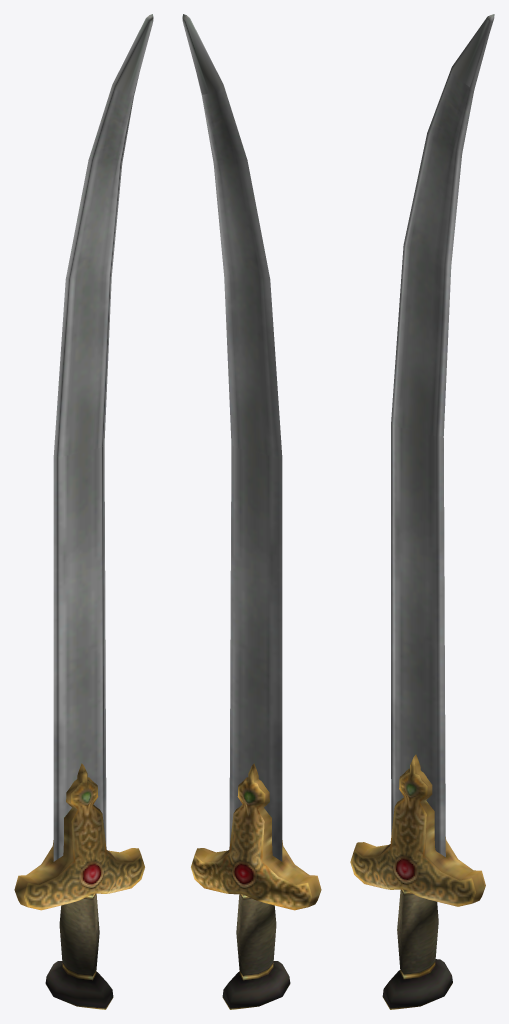
The model's file is chand.ico.obj.
3 renders of one model, left to right at view 1: azimuth 30°, elevation 25°; view 2: azimuth 150°, elevation 25°; view 3: azimuth 330°, elevation 25°, orthographic. The views are drawn at different scales.
Size of the model in its own units: 0.594 by 4.01 by 0.4019.
1 material, 1 textured.
